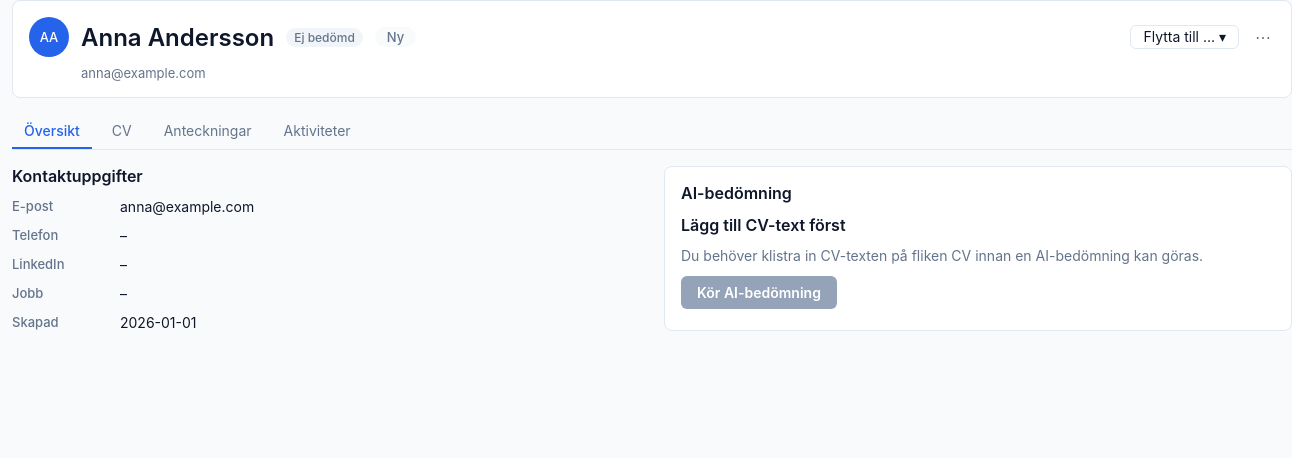
Scenario: CandidateProfilePage › switches tabs
Click the tab "Anteckningar". click: {"x": 208, "y": 132}
box: [152, 114, 264, 149]
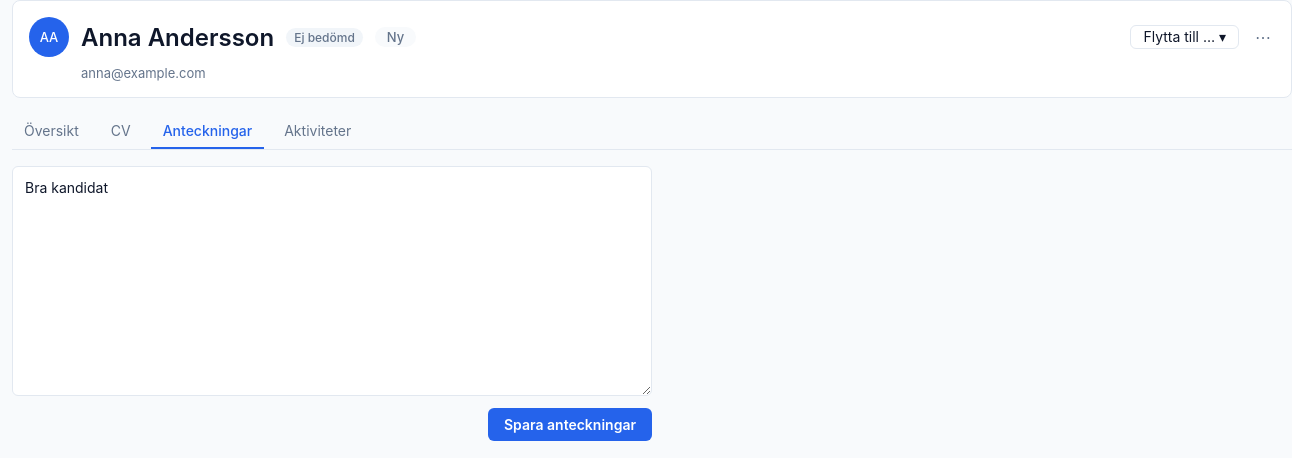
Expected: the text box named "Anteckningar" holds "Bra kandidat", [12, 166, 652, 396]
